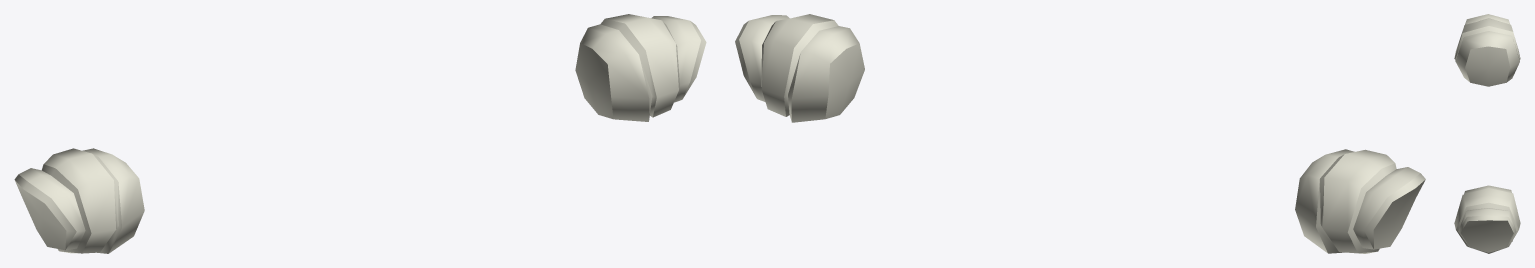
The model's file is Hands_43.fbx.
3 views of the same model, side by side, from view 1: azimuth 30°, elevation 25°; view 2: azimuth 150°, elevation 25°; view 3: azimuth 270°, elevation 25° (orthographic). The views are drawn at different scales.
Visible parts, largest first — view 1: Hands_43; view 2: Hands_43; view 3: Hands_43.
Boxes of the visible parts, bbox=[...] form: Hands_43: bbox=[14, 14, 706, 253]; Hands_43: bbox=[735, 14, 1425, 253]; Hands_43: bbox=[1454, 14, 1520, 253].
Size of the model in its own units: 104 by 14.12 by 14.27.
